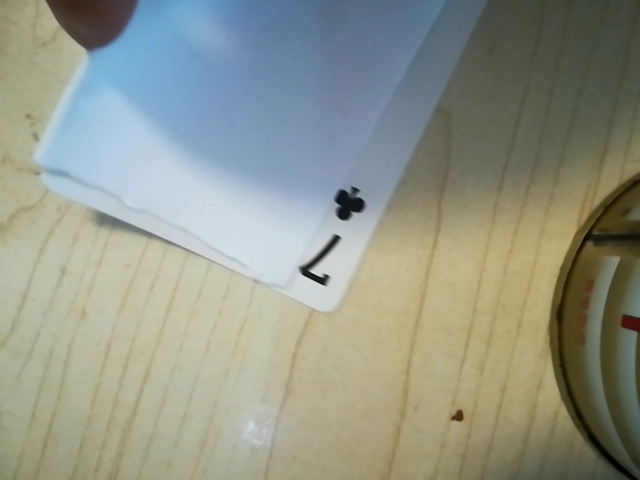mh 7: (287, 173, 375, 296)
